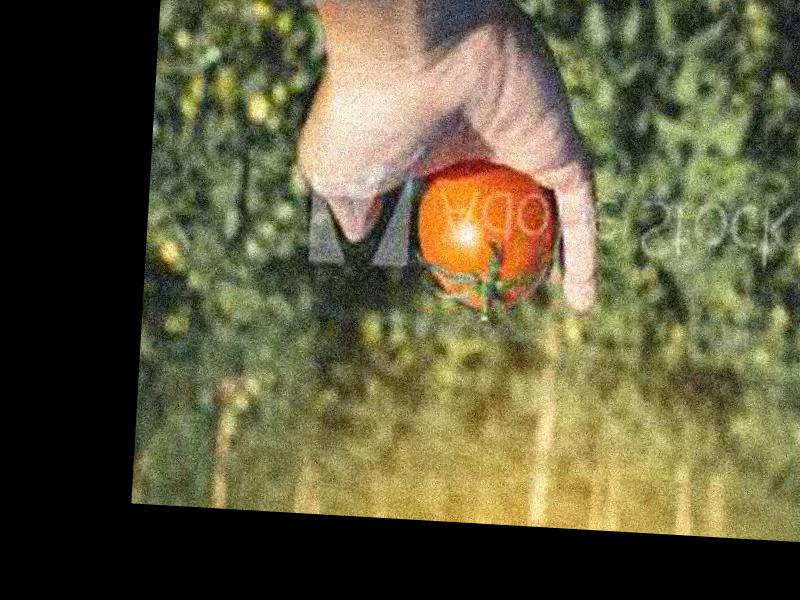Tomato: (417, 165, 561, 310)
